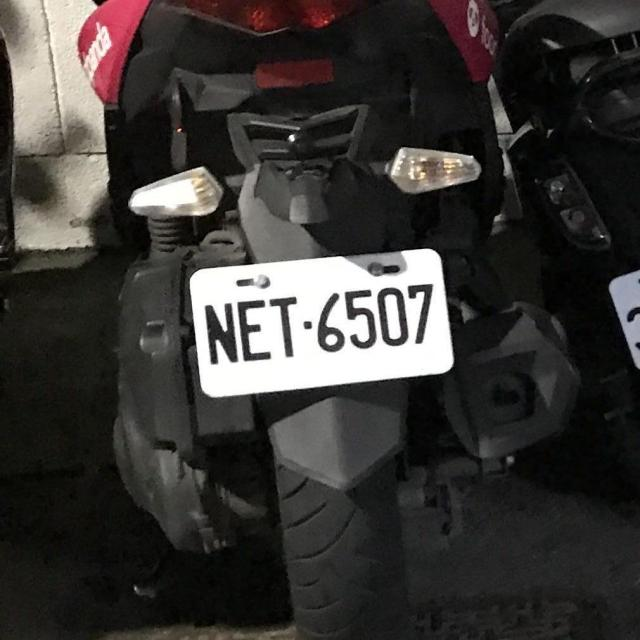W: (182, 238, 462, 409), (602, 218, 640, 376)
